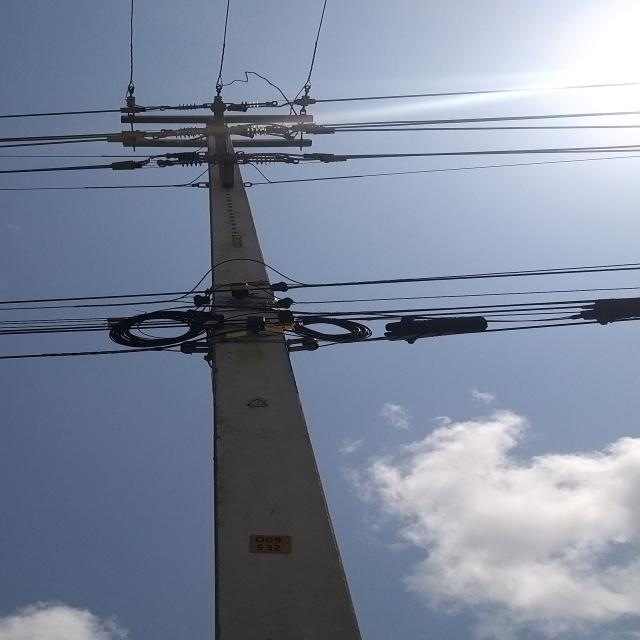Plaqueta: (203, 320, 220, 324)
